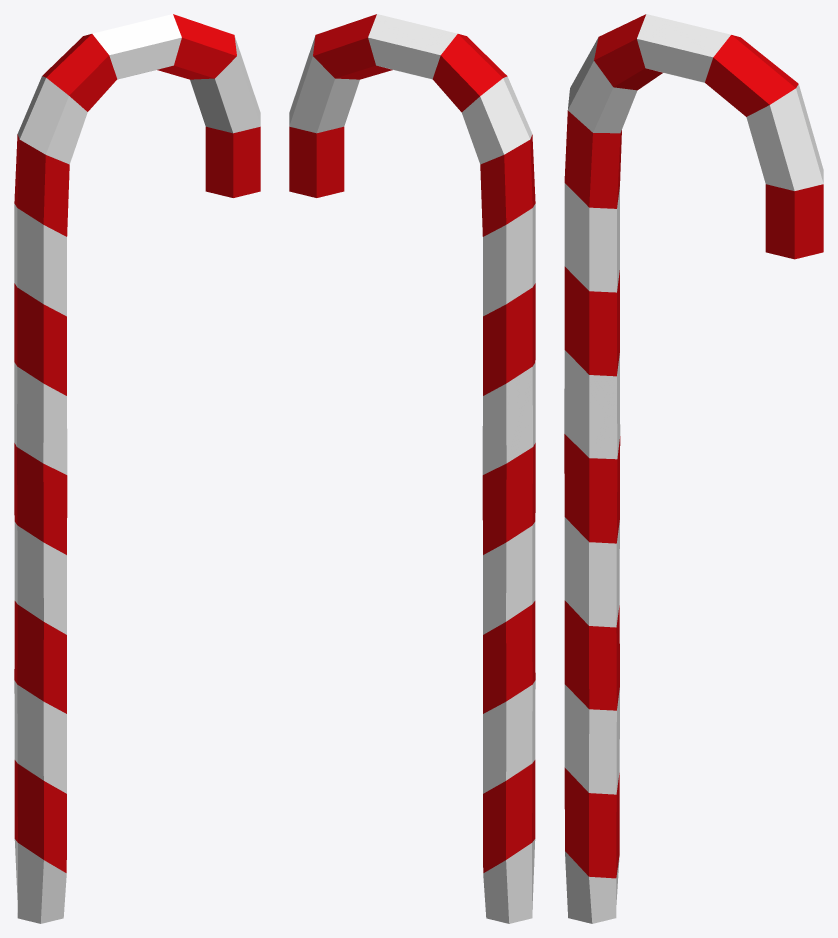
The model's file is Texturizado_Baston_Dulce_001.glb.
3 renders of one model, left to right at view 1: azimuth 30°, elevation 25°; view 2: azimuth 150°, elevation 25°; view 3: azimuth 330°, elevation 25°, orthographic. The views are drawn at different scales.
Visible parts, largest first — view 1: Mesh_Baston_Dulce_001; view 2: Mesh_Baston_Dulce_001; view 3: Mesh_Baston_Dulce_001.
Boxes of the visible parts, left/top/right/bottom form: Mesh_Baston_Dulce_001: left=14, top=14, right=260, bottom=923; Mesh_Baston_Dulce_001: left=289, top=14, right=535, bottom=923; Mesh_Baston_Dulce_001: left=564, top=14, right=823, bottom=923.
Size of the model in its own units: 9.83 by 33.38 by 2.04.
